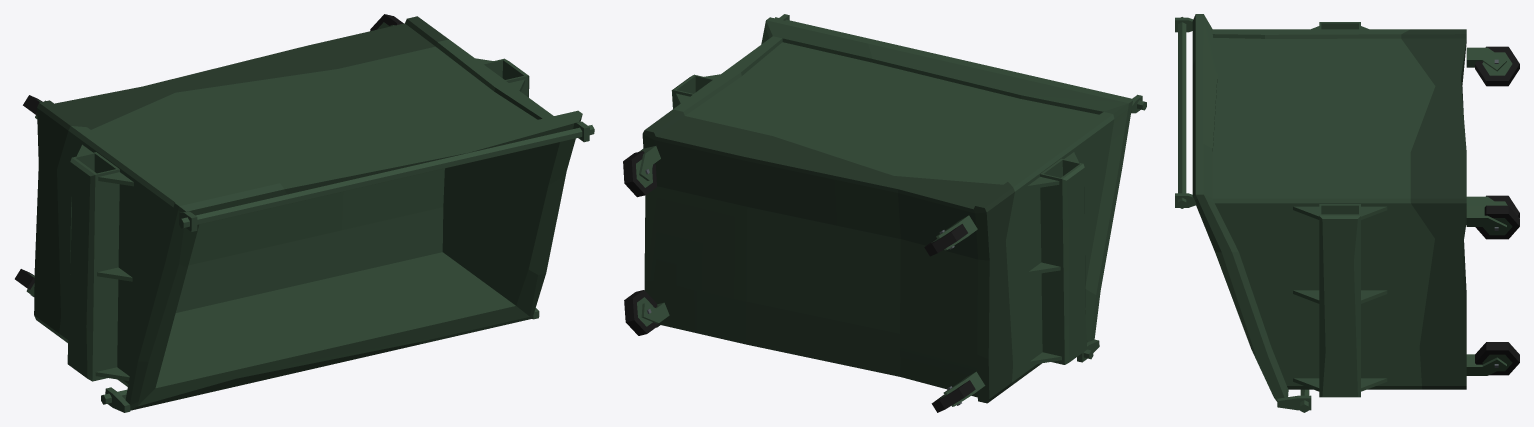
Rendered from SM_Prop_Dumpster_01.obj.
3 renders of one model, left to right at view 1: azimuth 30°, elevation 25°; view 2: azimuth 150°, elevation 25°; view 3: azimuth 270°, elevation 25°, orthographic. The views are drawn at different scales.
Visible parts, largest first — view 1: SM_Prop_Dumpster_01_0; view 2: SM_Prop_Dumpster_01_0; view 3: SM_Prop_Dumpster_01_0.
Part boxes in pixels (box(x1,y1,x2,y2)): SM_Prop_Dumpster_01_0: box(15, 14, 594, 412); SM_Prop_Dumpster_01_0: box(623, 14, 1146, 412); SM_Prop_Dumpster_01_0: box(1175, 14, 1519, 412).
Size of the model in its own units: 0.0243 by 0.013 by 0.0185.
Materials: 1 (1 with a texture image).
